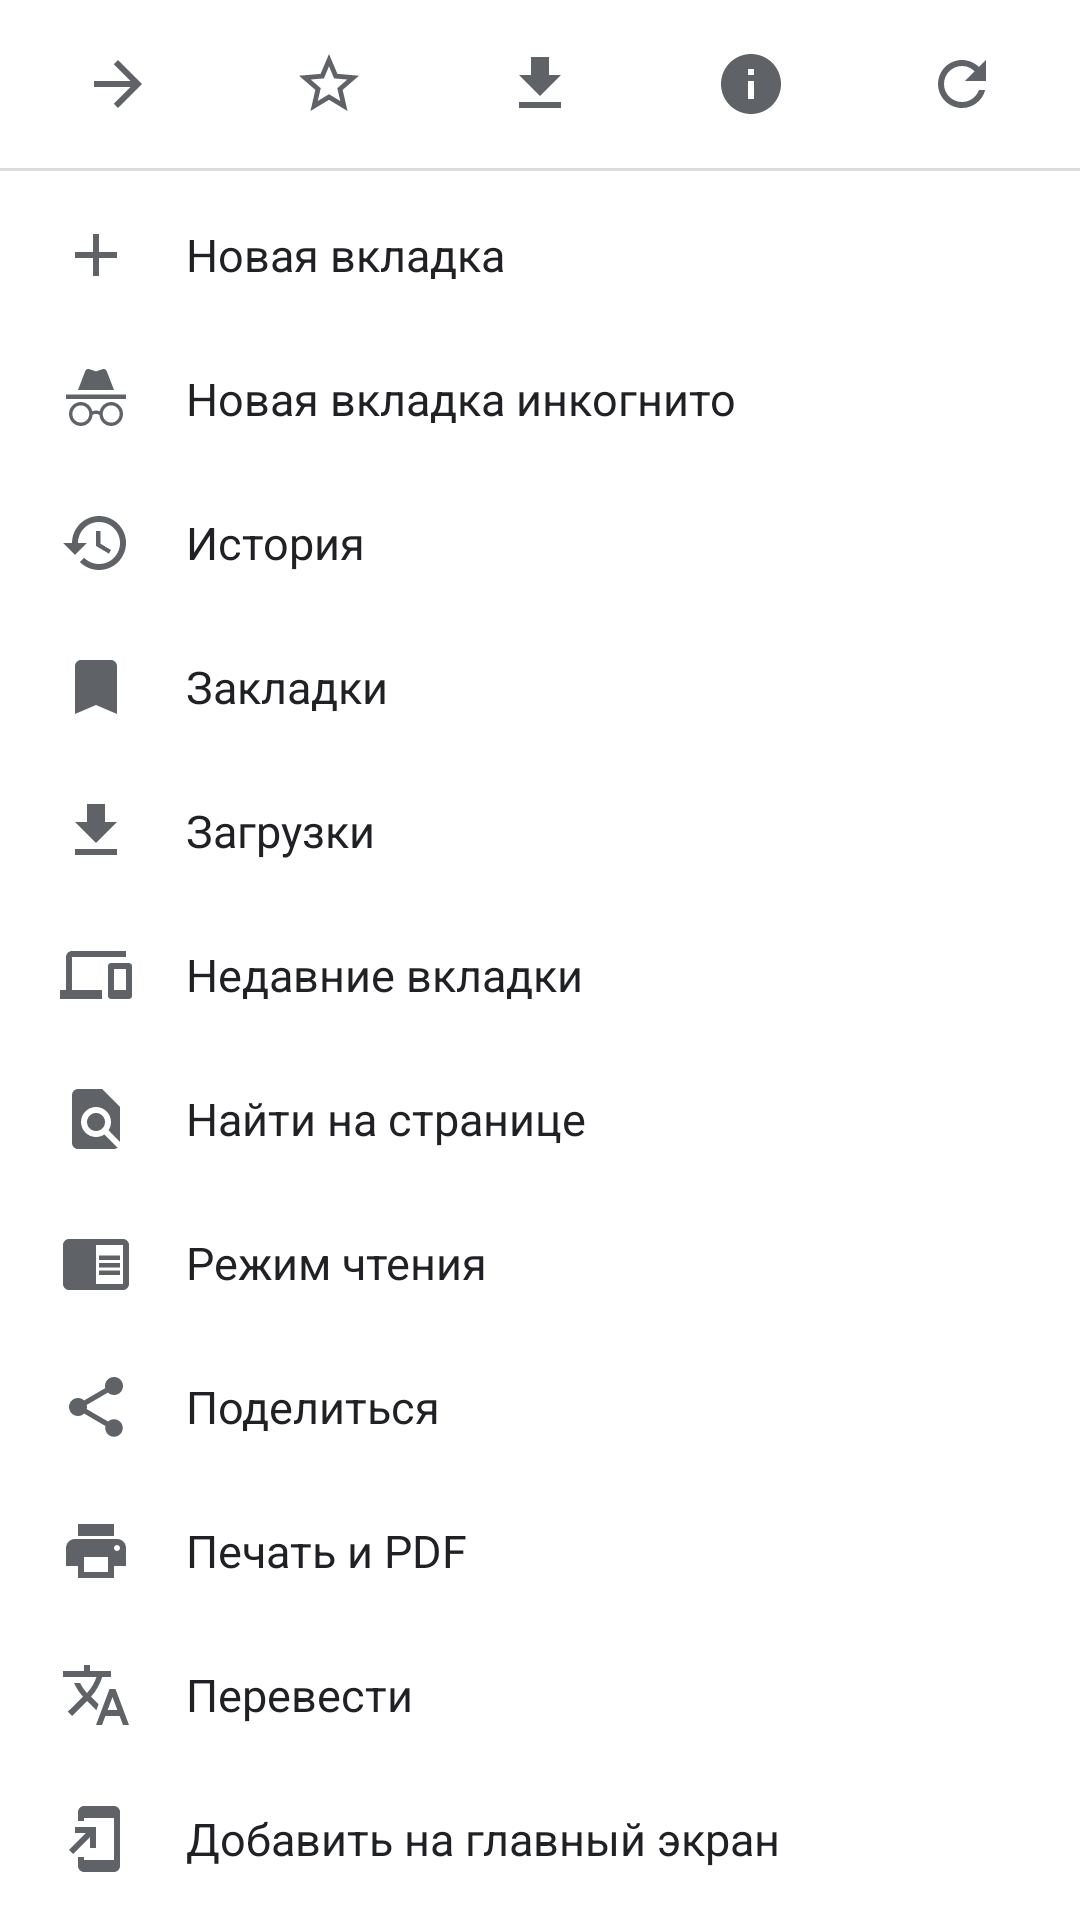

Screen size 1080w x 1920h. Icon name, then its center in pixels as [x,y]:
Вперёд: [118,84]
О странице: [751,84]
Обновить: [962,84]
